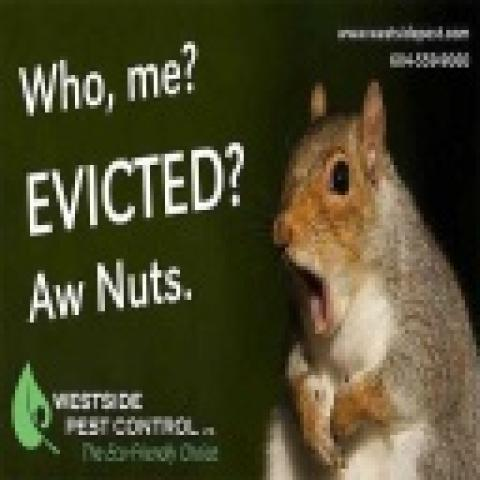small_animal: (259, 75, 476, 476)
